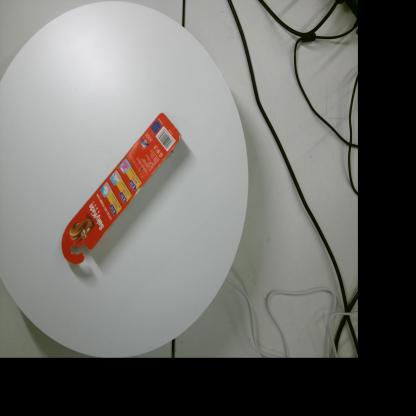Personal Hygiene: (61, 112, 182, 264)
